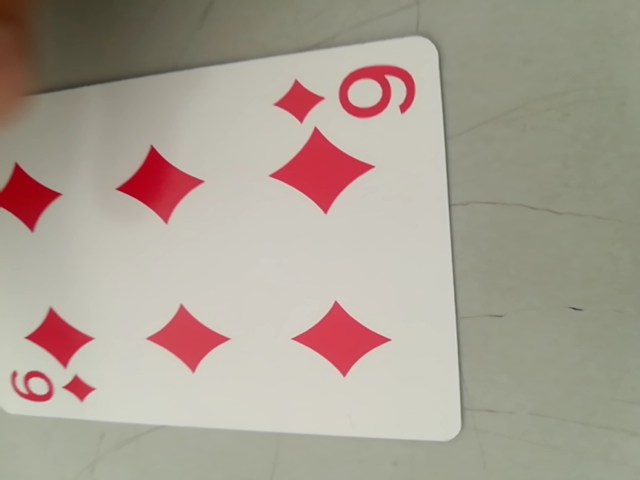fk 6: (275, 58, 415, 132), (5, 365, 93, 410)
